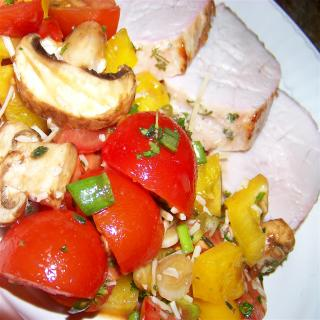tomato: (100, 109, 200, 223), (76, 168, 166, 275), (6, 210, 107, 304), (48, 0, 119, 38), (0, 0, 45, 36), (37, 17, 64, 41)
